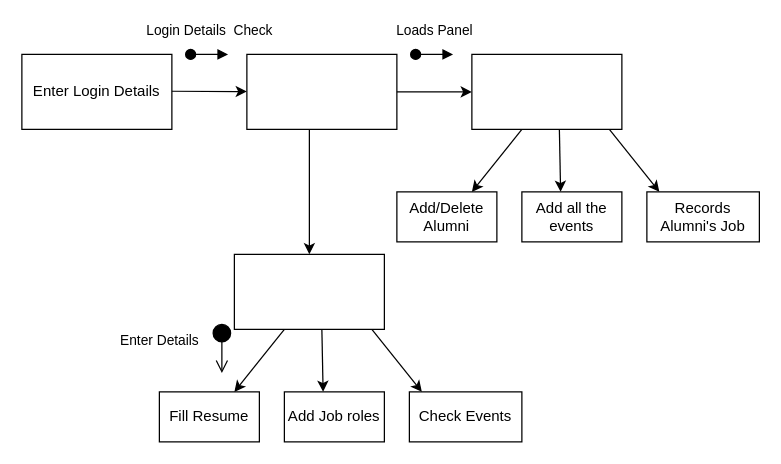
This 781x464 diagram has some shape labels left out. The centre of each missing label's shape, as x and y in pixels:
"Admin Panel" goes at point 546,91.
"Alumni Panel" goes at point 308,291.
"Verify Login Details" goes at point 321,91.
